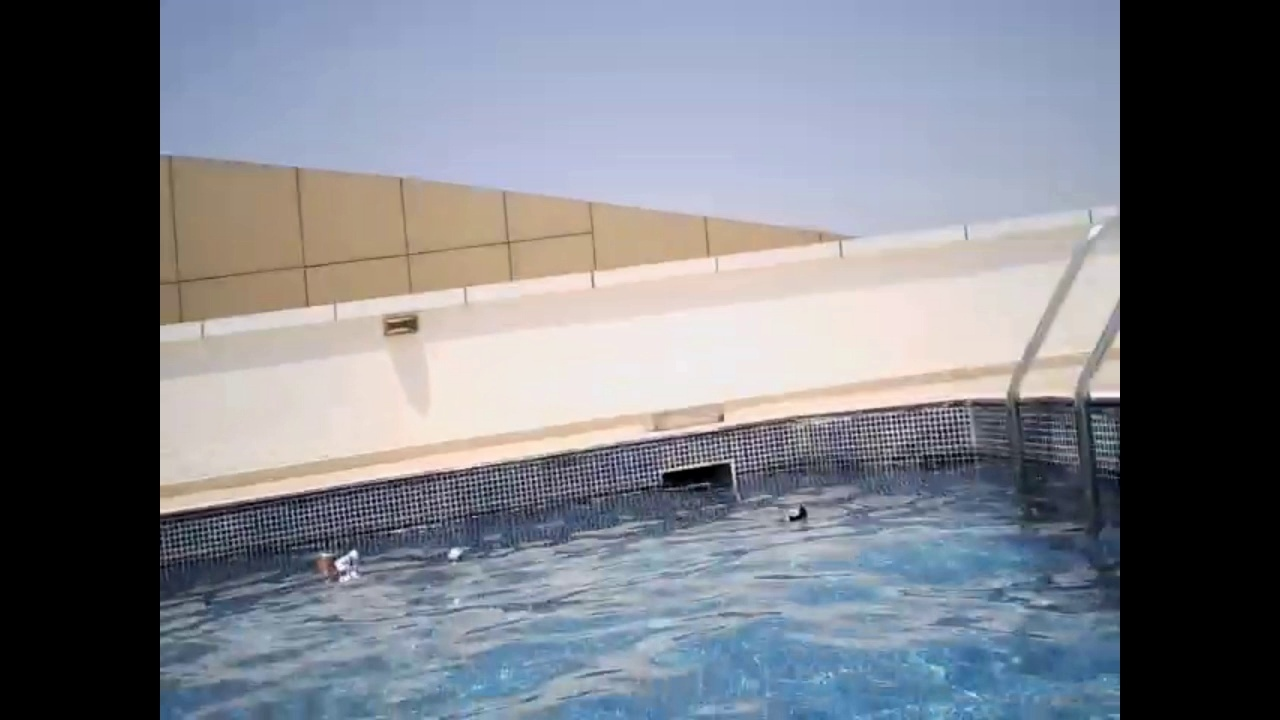debris: (780, 499, 809, 528), (326, 548, 361, 572), (310, 550, 334, 574), (441, 543, 465, 563)
